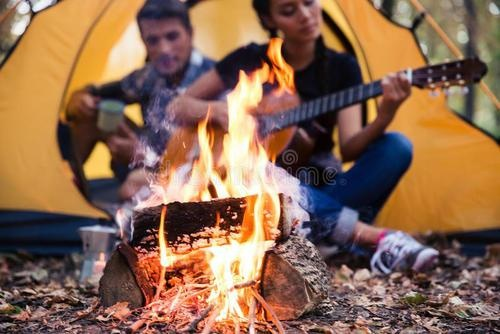fire: (153, 28, 296, 329)
